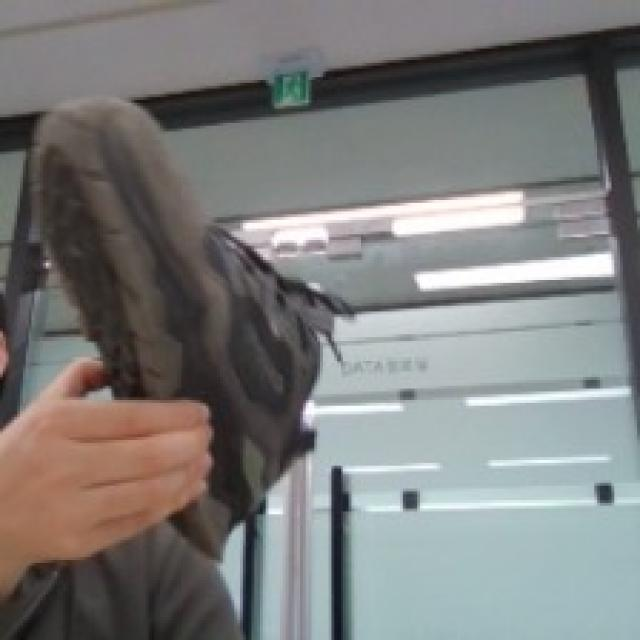shoe: (0, 28, 374, 636)
